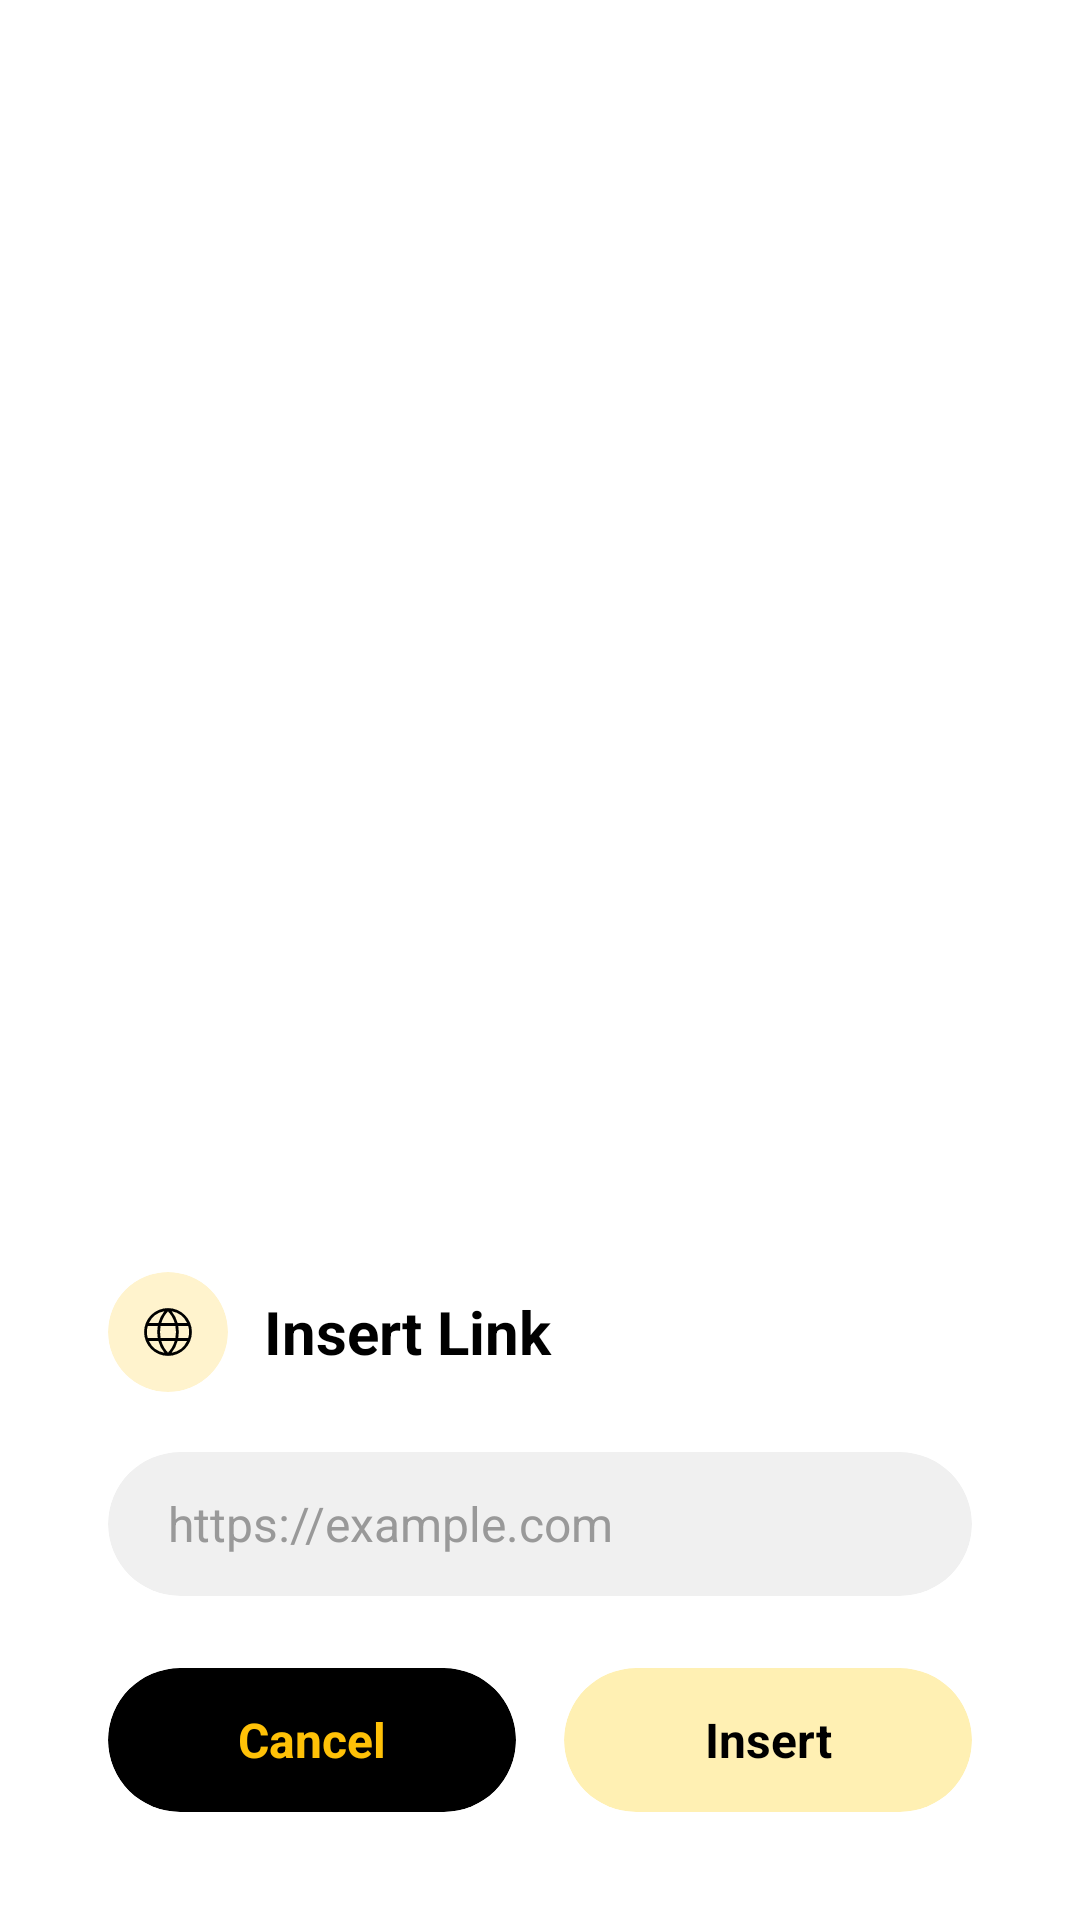

Where to tap for icons on this 1080px x 1920px app screen, as [x,y]:
internet: [168,1332]
